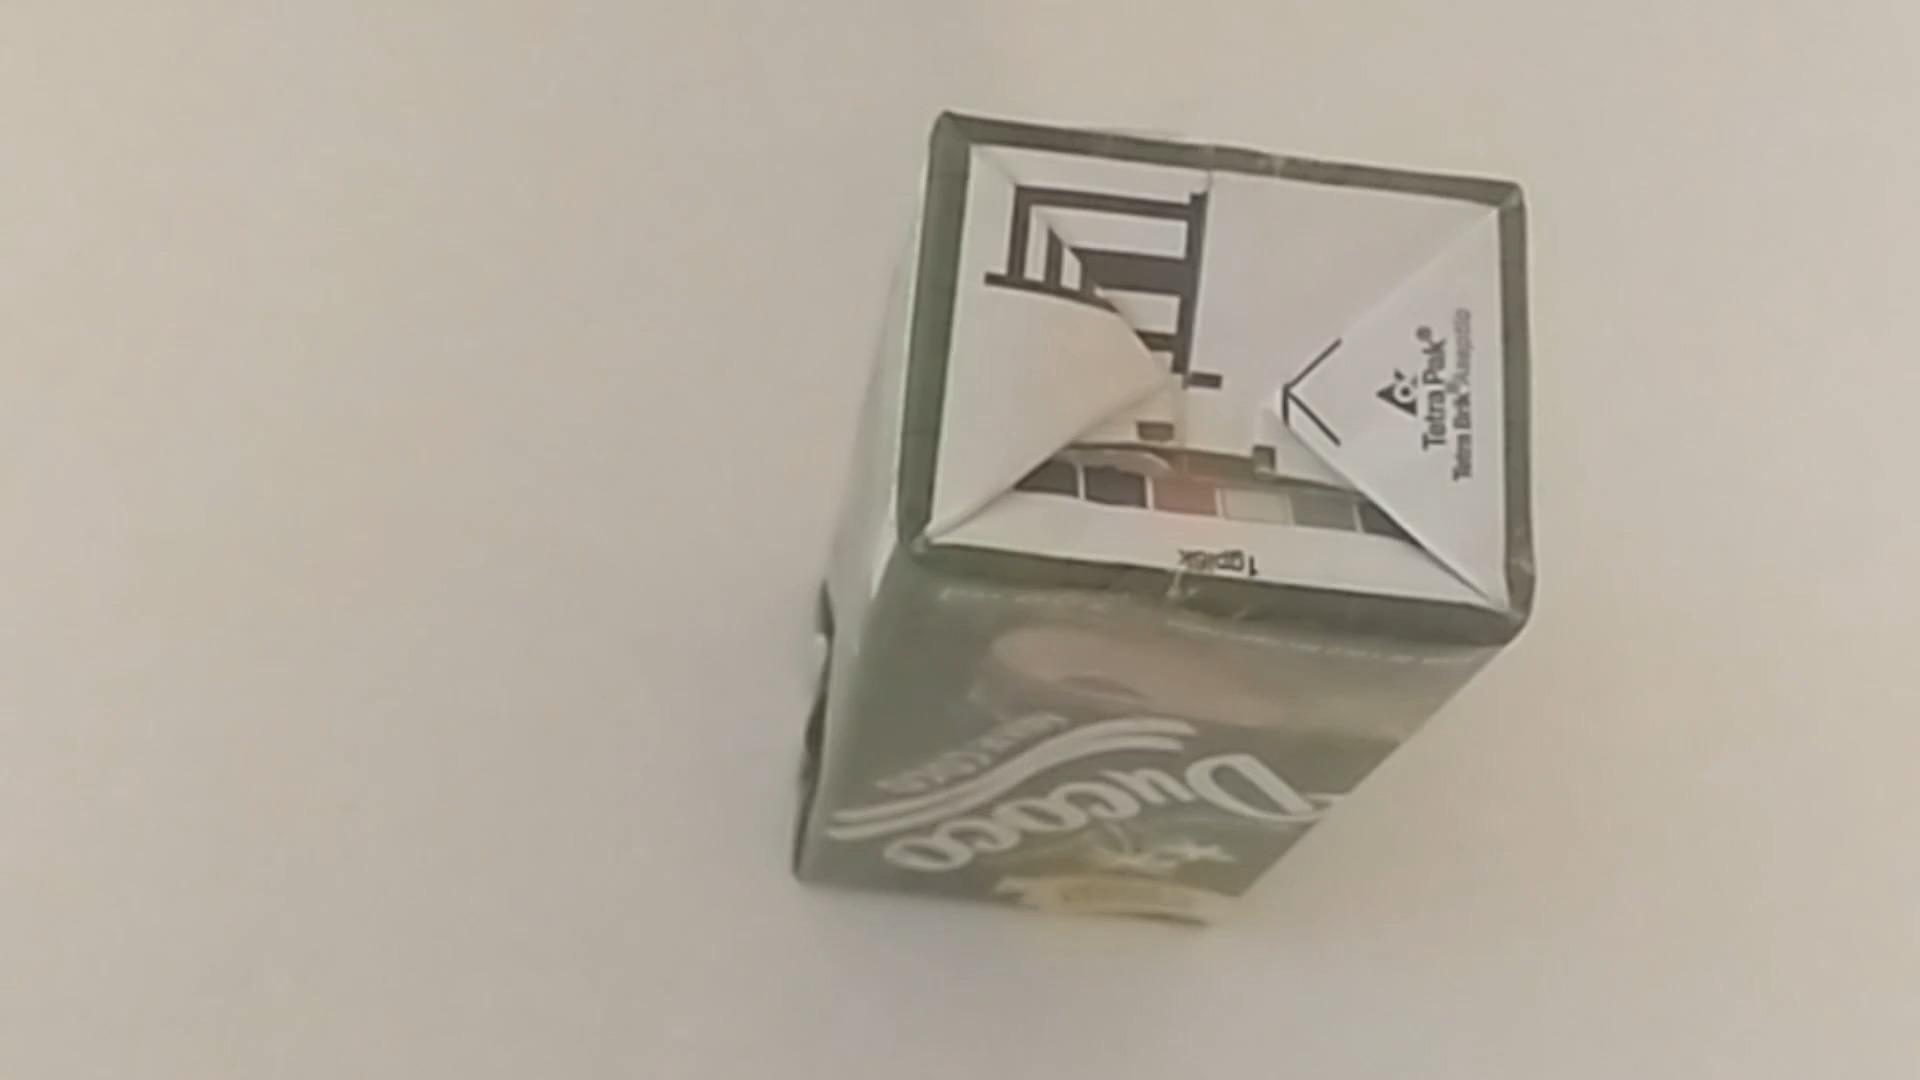coco: (789, 112, 1531, 926)
